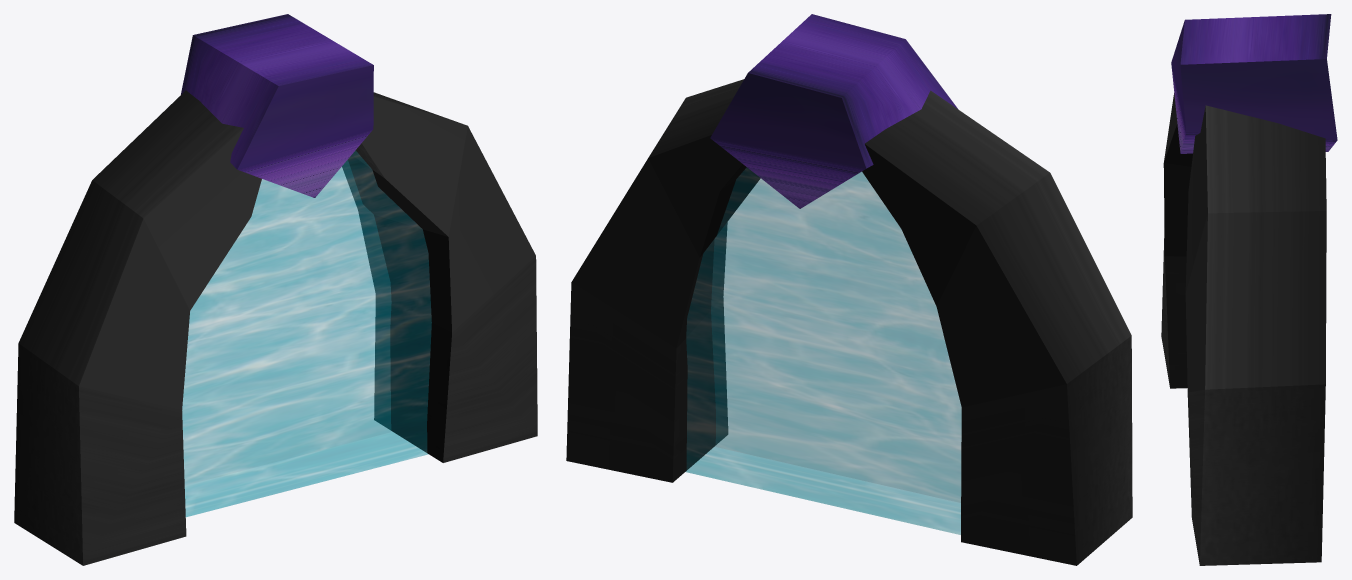
Rendered from portal.glb.
3 renders of one model, left to right at view 1: azimuth 30°, elevation 25°; view 2: azimuth 150°, elevation 25°; view 3: azimuth 270°, elevation 25°, orthographic. The views are drawn at different scales.
Visible parts, largest first — view 1: Cube.002_1, Cube.005_3, Cube.001_0, Cube.003_2; view 2: Cube.005_3, Cube.002_1, Cube.001_0, Cube.003_2; view 3: Cube.001_0, Cube.003_2, Cube.002_1.
Boxes of the visible parts, bbox=[...] form: Cube.002_1: bbox=[14, 90, 261, 565]; Cube.005_3: bbox=[182, 150, 431, 516]; Cube.001_0: bbox=[342, 92, 537, 462]; Cube.003_2: bbox=[181, 14, 373, 197]; Cube.005_3: bbox=[686, 168, 961, 534]; Cube.002_1: bbox=[862, 90, 1132, 565]; Cube.001_0: bbox=[566, 79, 760, 482]; Cube.003_2: bbox=[710, 14, 958, 208]; Cube.001_0: bbox=[1185, 105, 1326, 565]; Cube.003_2: bbox=[1171, 14, 1337, 153]; Cube.002_1: bbox=[1161, 93, 1192, 388].
Bounding box in the file's own units: 6.6 × 5.51 × 2.1.
Materials: 3 (3 with a texture image).
